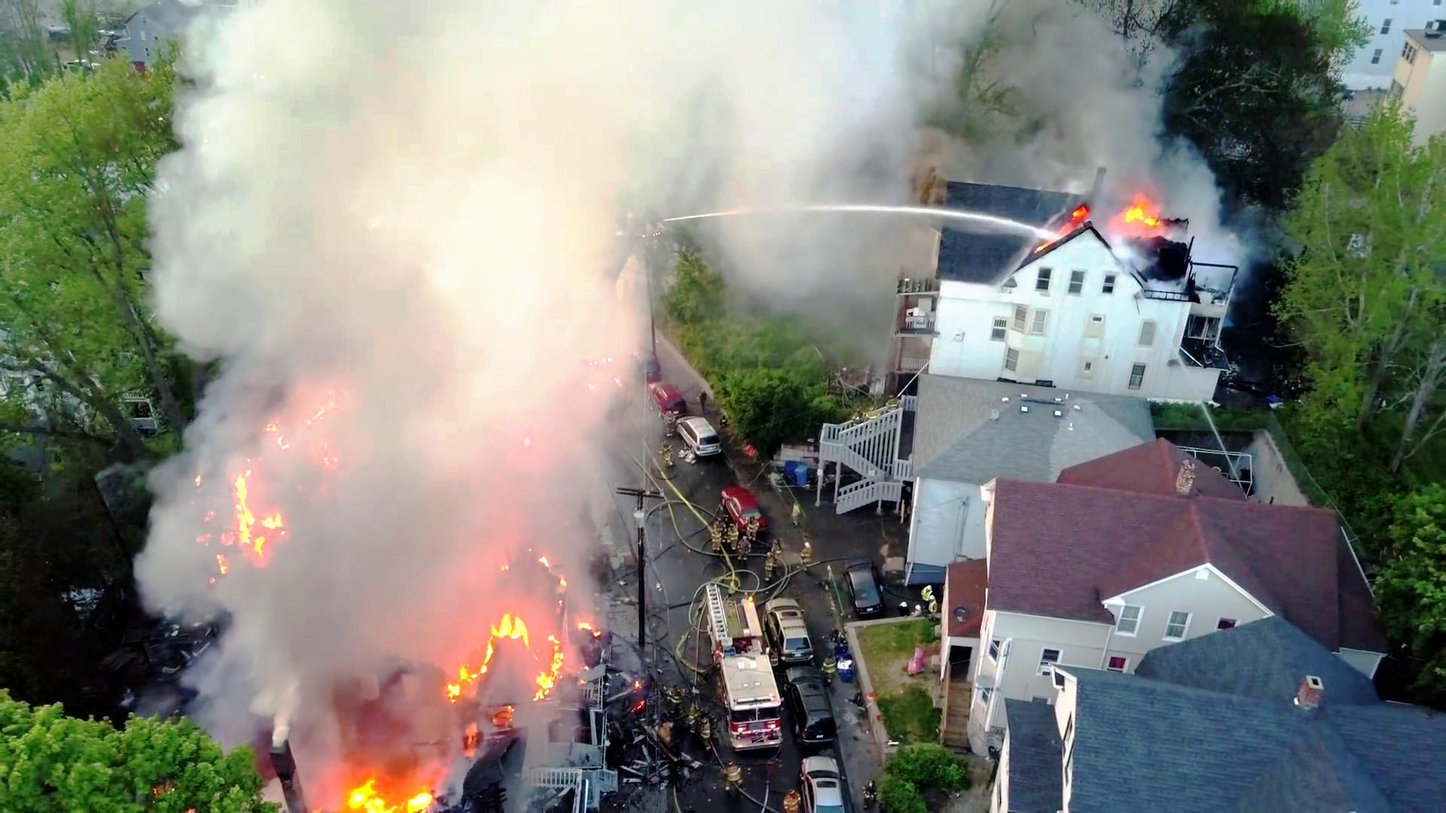fire: (435, 606, 561, 694), (339, 766, 448, 813), (225, 490, 290, 556)
smoke: (305, 0, 576, 311)
